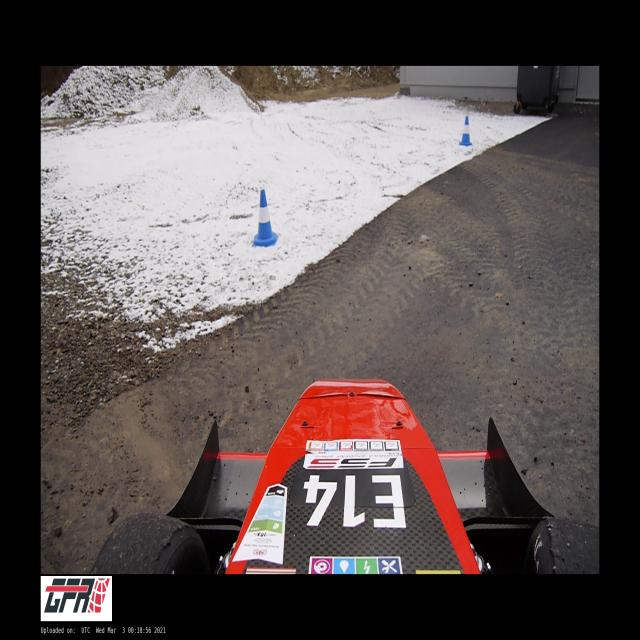blue_cone: (252, 190, 278, 247), (459, 116, 472, 146)
